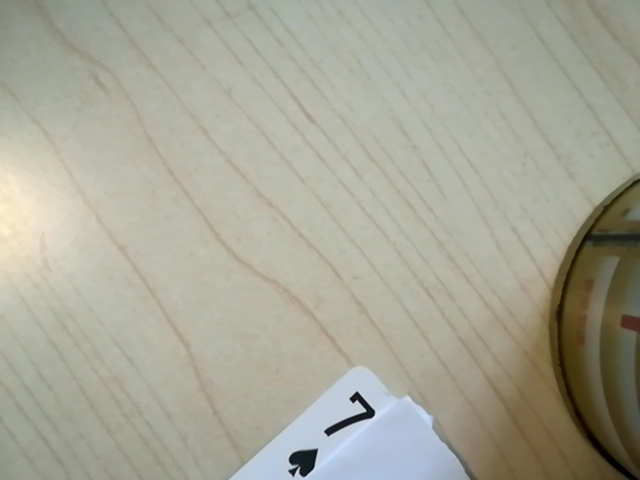ht 7: (246, 392, 386, 477)
